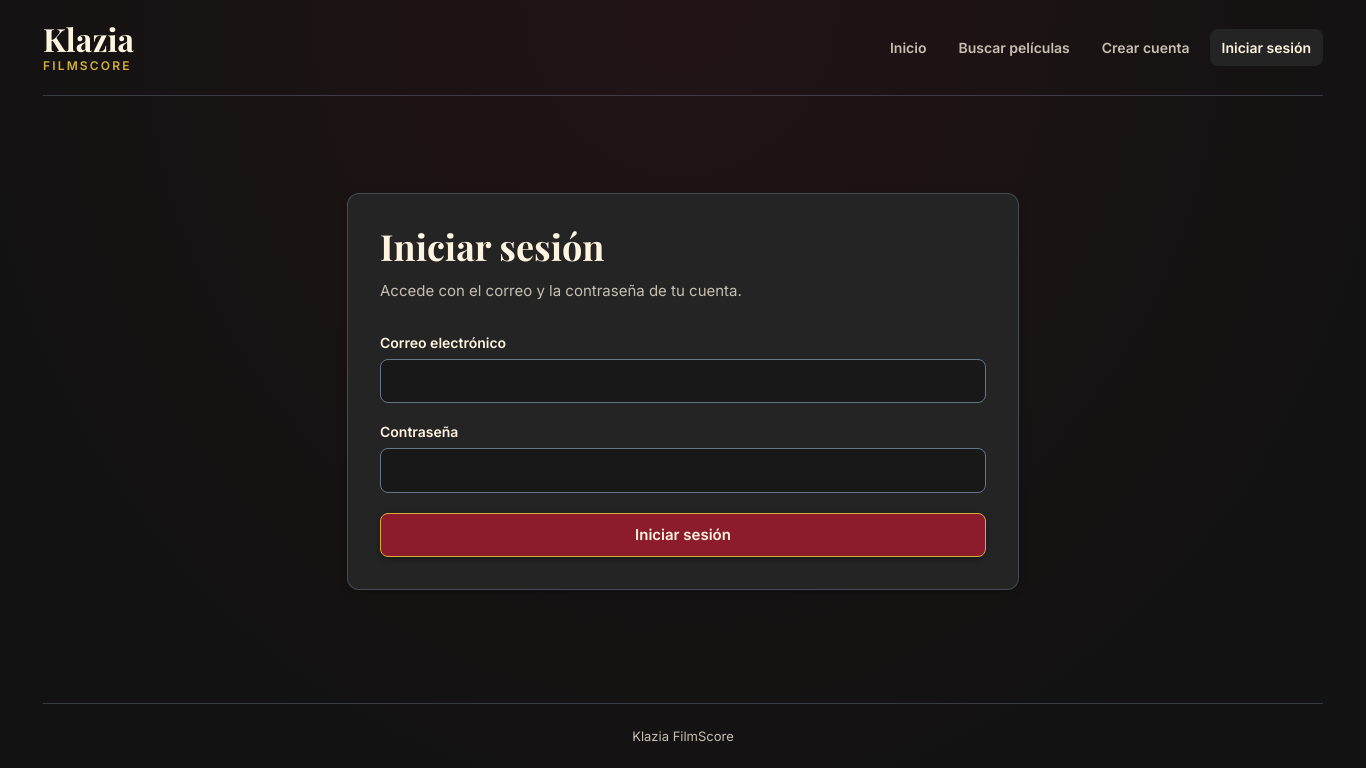
Scenario: public application shell › preserves login email and clears the password after a persistence error
Type "persona@example.invalid" into the field labelled "Correo electrónico".
click(683, 381); type("persona@example.invalid")  # box [380,359,986,404]
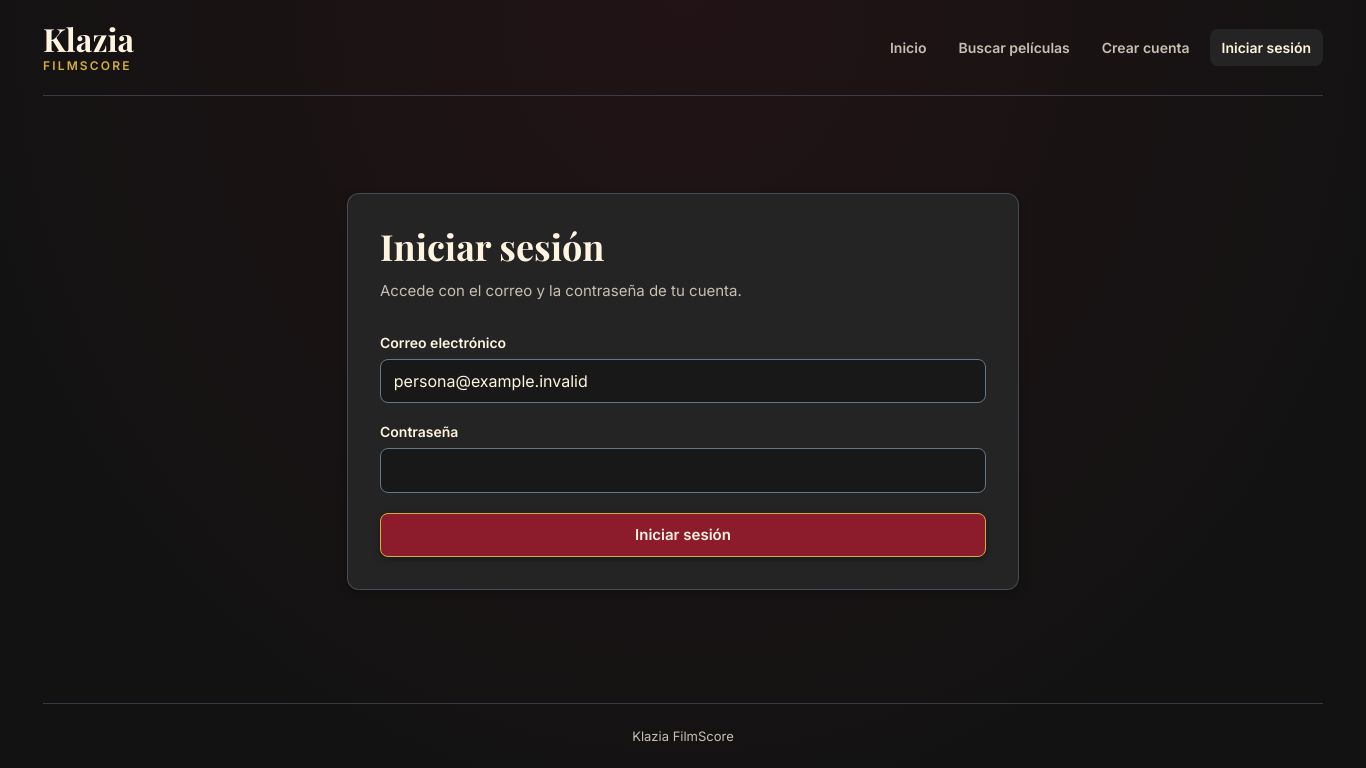
Type "ClavePrueba123" into the password field labelled "Contraseña".
click(683, 471); type("ClavePrueba123")  # box [380,448,986,493]
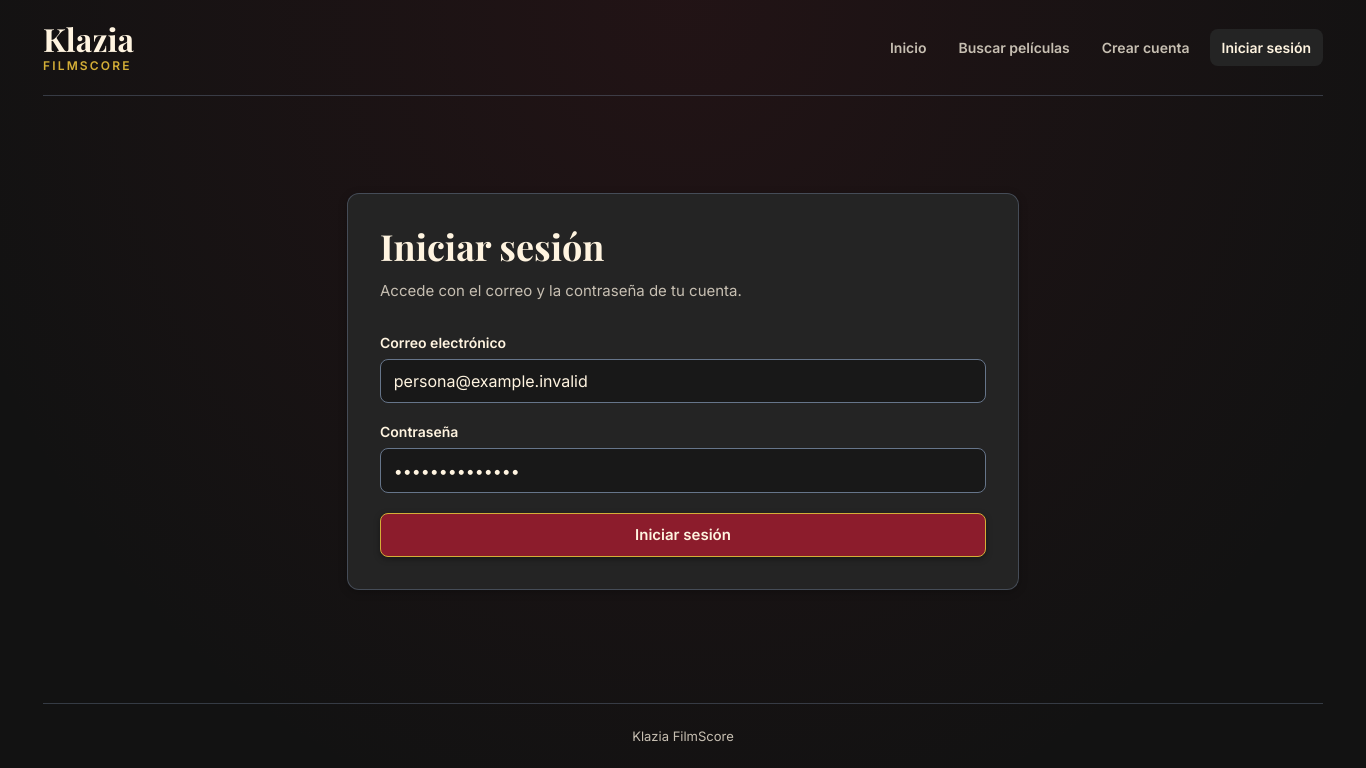
Click the button "Iniciar sesión".
click(683, 535)  # box [380,513,986,557]
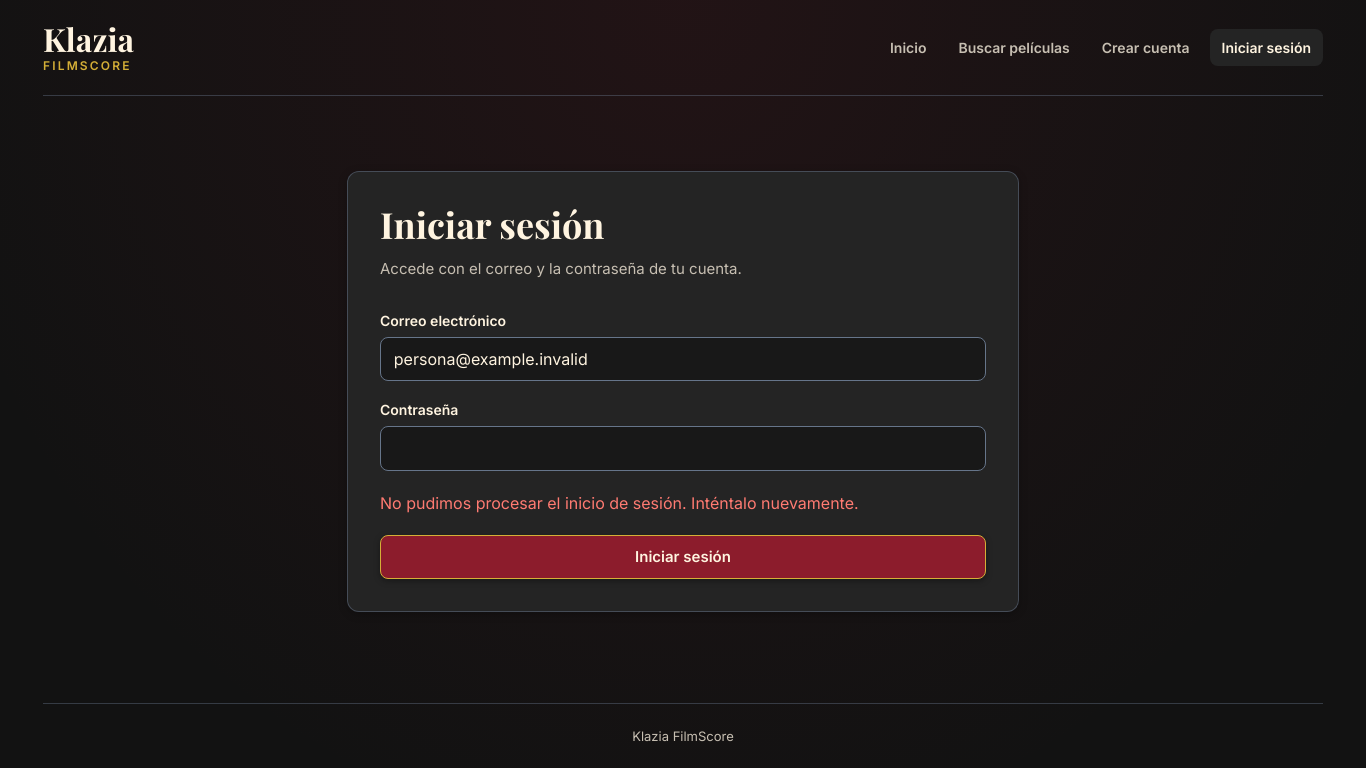
Check: the message shows "No pudimos procesar el inicio de sesión", box [380,493,859,513]
Check: the password field labelled "Contraseña" is empty, box [380,426,986,471]
